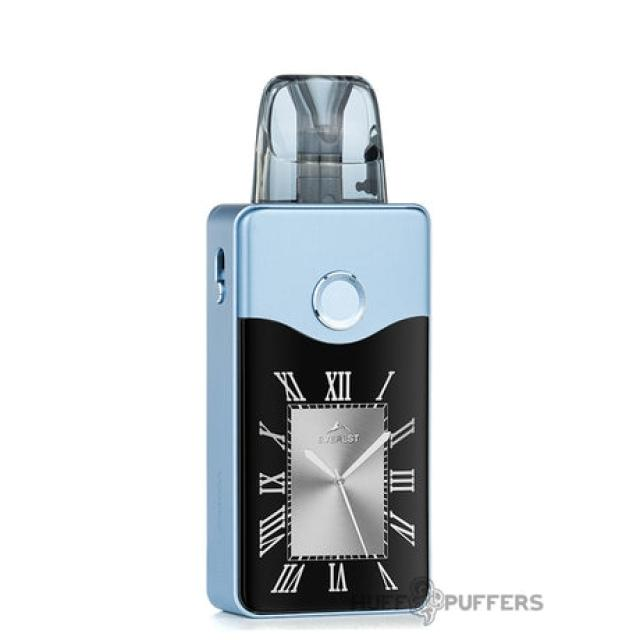Hazard: (205, 72, 432, 619)
